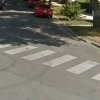crosswalk: (3, 44, 99, 80)
